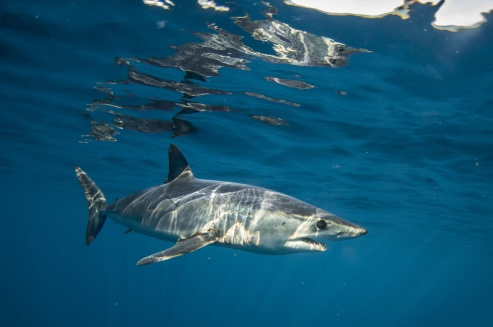Mako: (51, 145, 374, 274)
